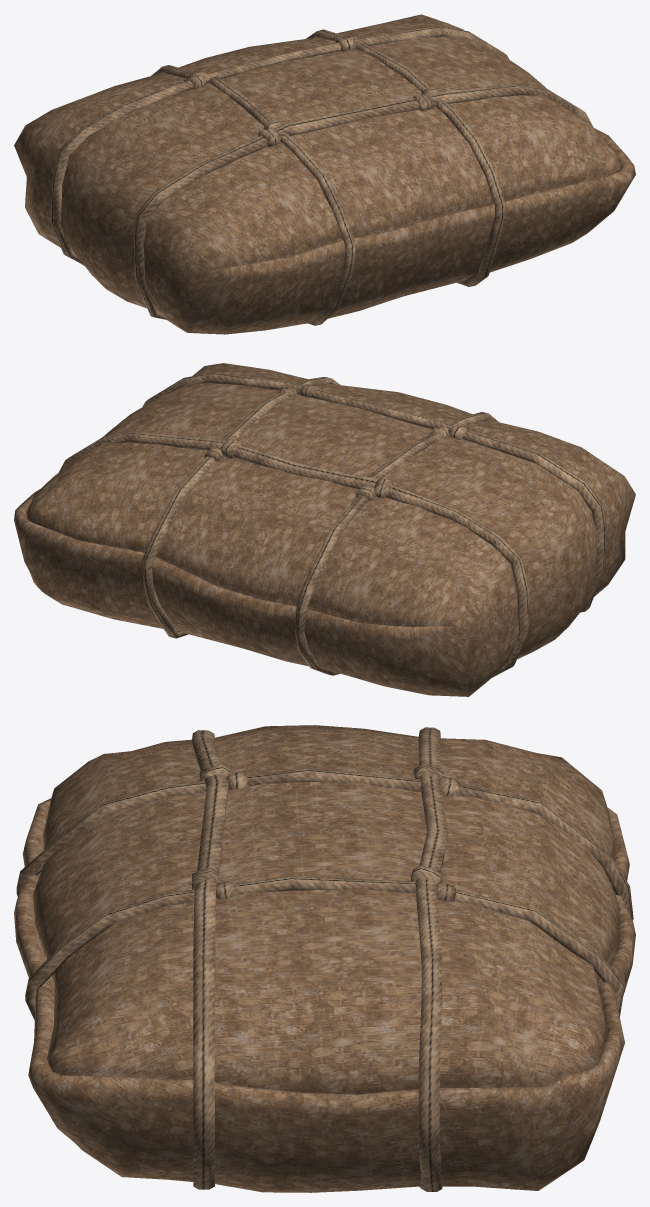
File: SM_StrawBag.fbx
The picture shows the model from 3 angles, top to bottom: view 1: azimuth 30°, elevation 25°; view 2: azimuth 150°, elevation 25°; view 3: azimuth 270°, elevation 25°; orthographic projection. The views are drawn at different scales.
Visible parts, largest first — view 1: SM_StrawBag; view 2: SM_StrawBag; view 3: SM_StrawBag.
Part boxes in pixels (x1,y1,x2,y2): SM_StrawBag: (14, 14, 635, 334); SM_StrawBag: (14, 363, 635, 696); SM_StrawBag: (14, 725, 635, 1192).
Bounding box in the file's own units: 94.78 × 36.02 × 75.37.
